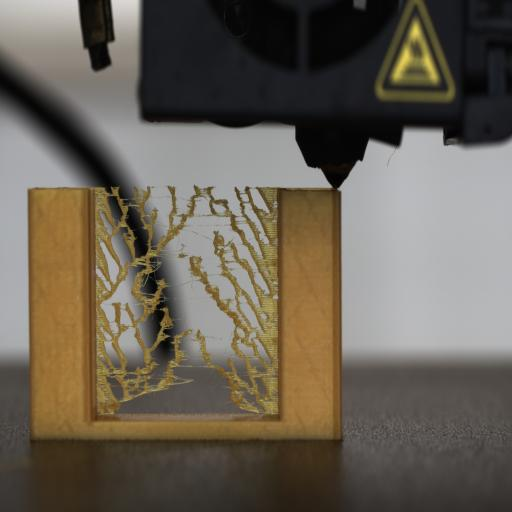stringing: (93, 186, 279, 416)
